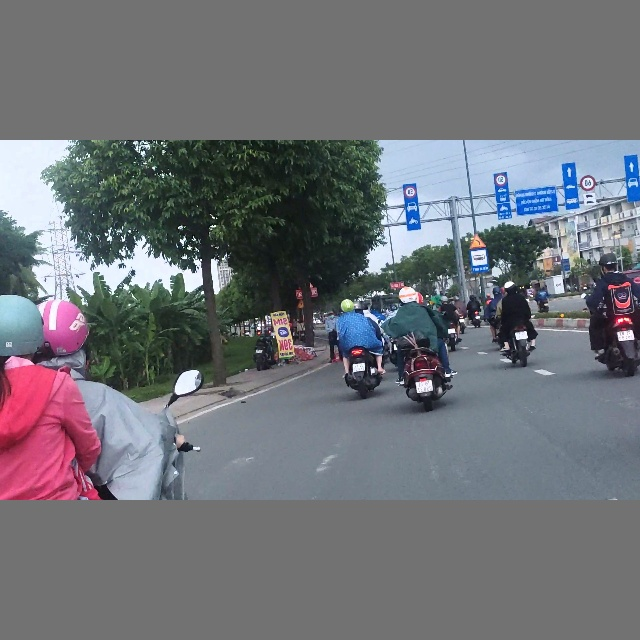I.434a: (470, 248, 489, 273)
P.127*50: (404, 186, 417, 198), (495, 173, 507, 186)
P.127*60: (580, 175, 596, 191)
S.505a*Xe tai va cong: (584, 193, 596, 206)
W.201b: (469, 234, 487, 249)
